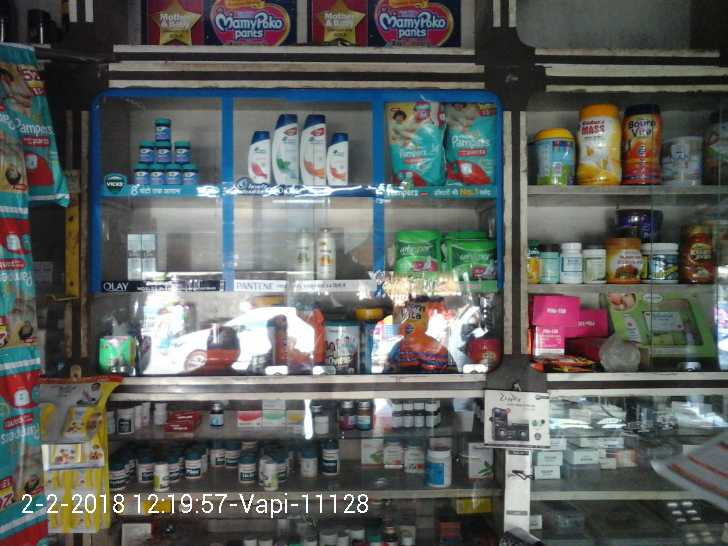beauty: (297, 110, 326, 186), (266, 115, 297, 183), (122, 222, 159, 278), (324, 129, 353, 189), (318, 226, 343, 284), (292, 229, 317, 282), (248, 129, 273, 180)
pharmacy: (384, 96, 441, 184), (440, 100, 494, 186), (441, 232, 498, 279), (396, 226, 442, 272), (153, 132, 173, 165), (133, 136, 155, 165), (162, 159, 181, 186), (143, 165, 166, 187), (151, 118, 172, 140), (128, 170, 152, 189), (173, 140, 191, 162), (179, 166, 198, 186)
